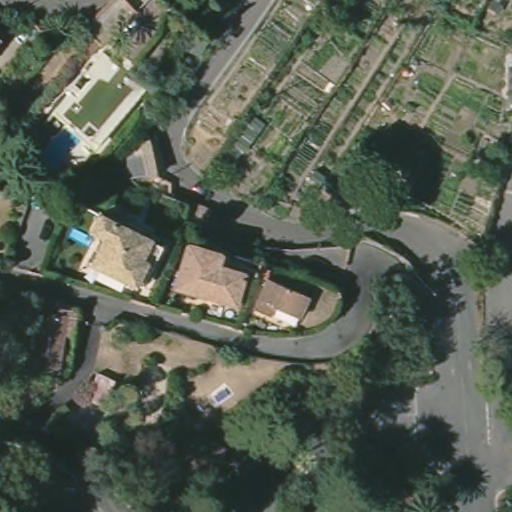pool: (31, 127, 80, 176), (65, 225, 95, 248)
